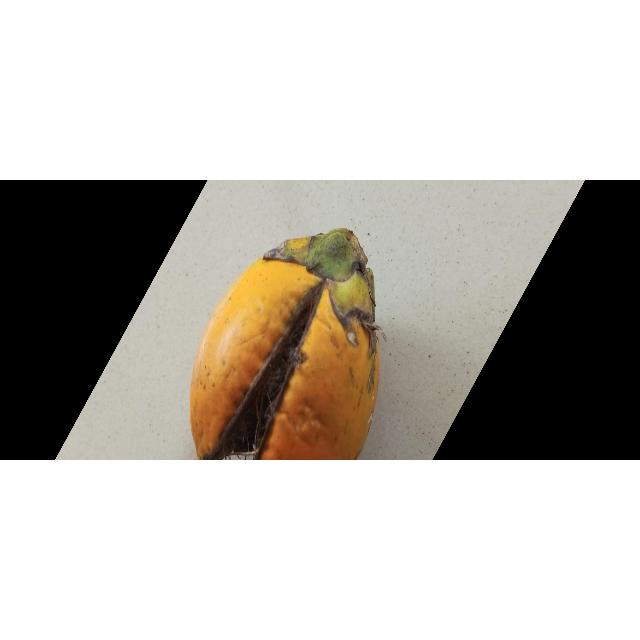damaged: (188, 229, 381, 461)
